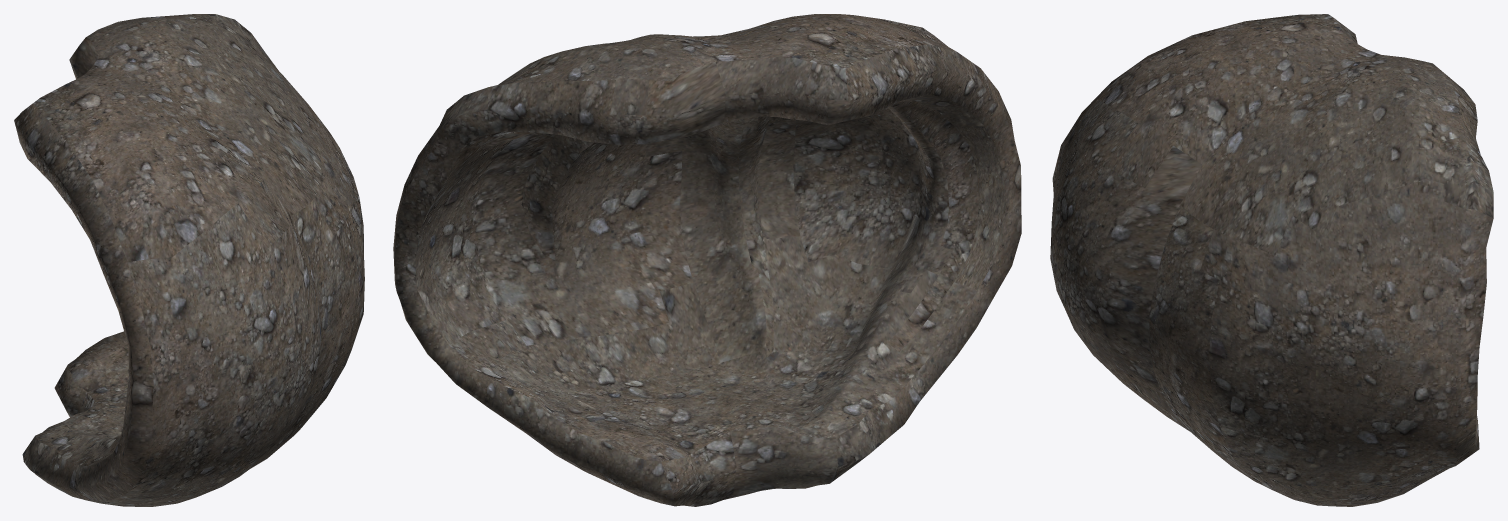
The model's file is cave_modules_corner_concave_1.dae.
3 renders of one model, left to right at view 1: azimuth 30°, elevation 25°; view 2: azimuth 150°, elevation 25°; view 3: azimuth 270°, elevation 25°, orthographic. The views are drawn at different scales.
Parts seen in each view (by area): view 1: concave_ribbed; view 2: concave_ribbed; view 3: concave_ribbed.
Part boxes in pixels (box(x1,y1,x2,y2)): concave_ribbed: box(14, 14, 364, 506); concave_ribbed: box(393, 14, 1021, 506); concave_ribbed: box(1050, 14, 1493, 506).
Size of what is drawn, in the model's own units: 8.25 by 8.77 by 8.33.
